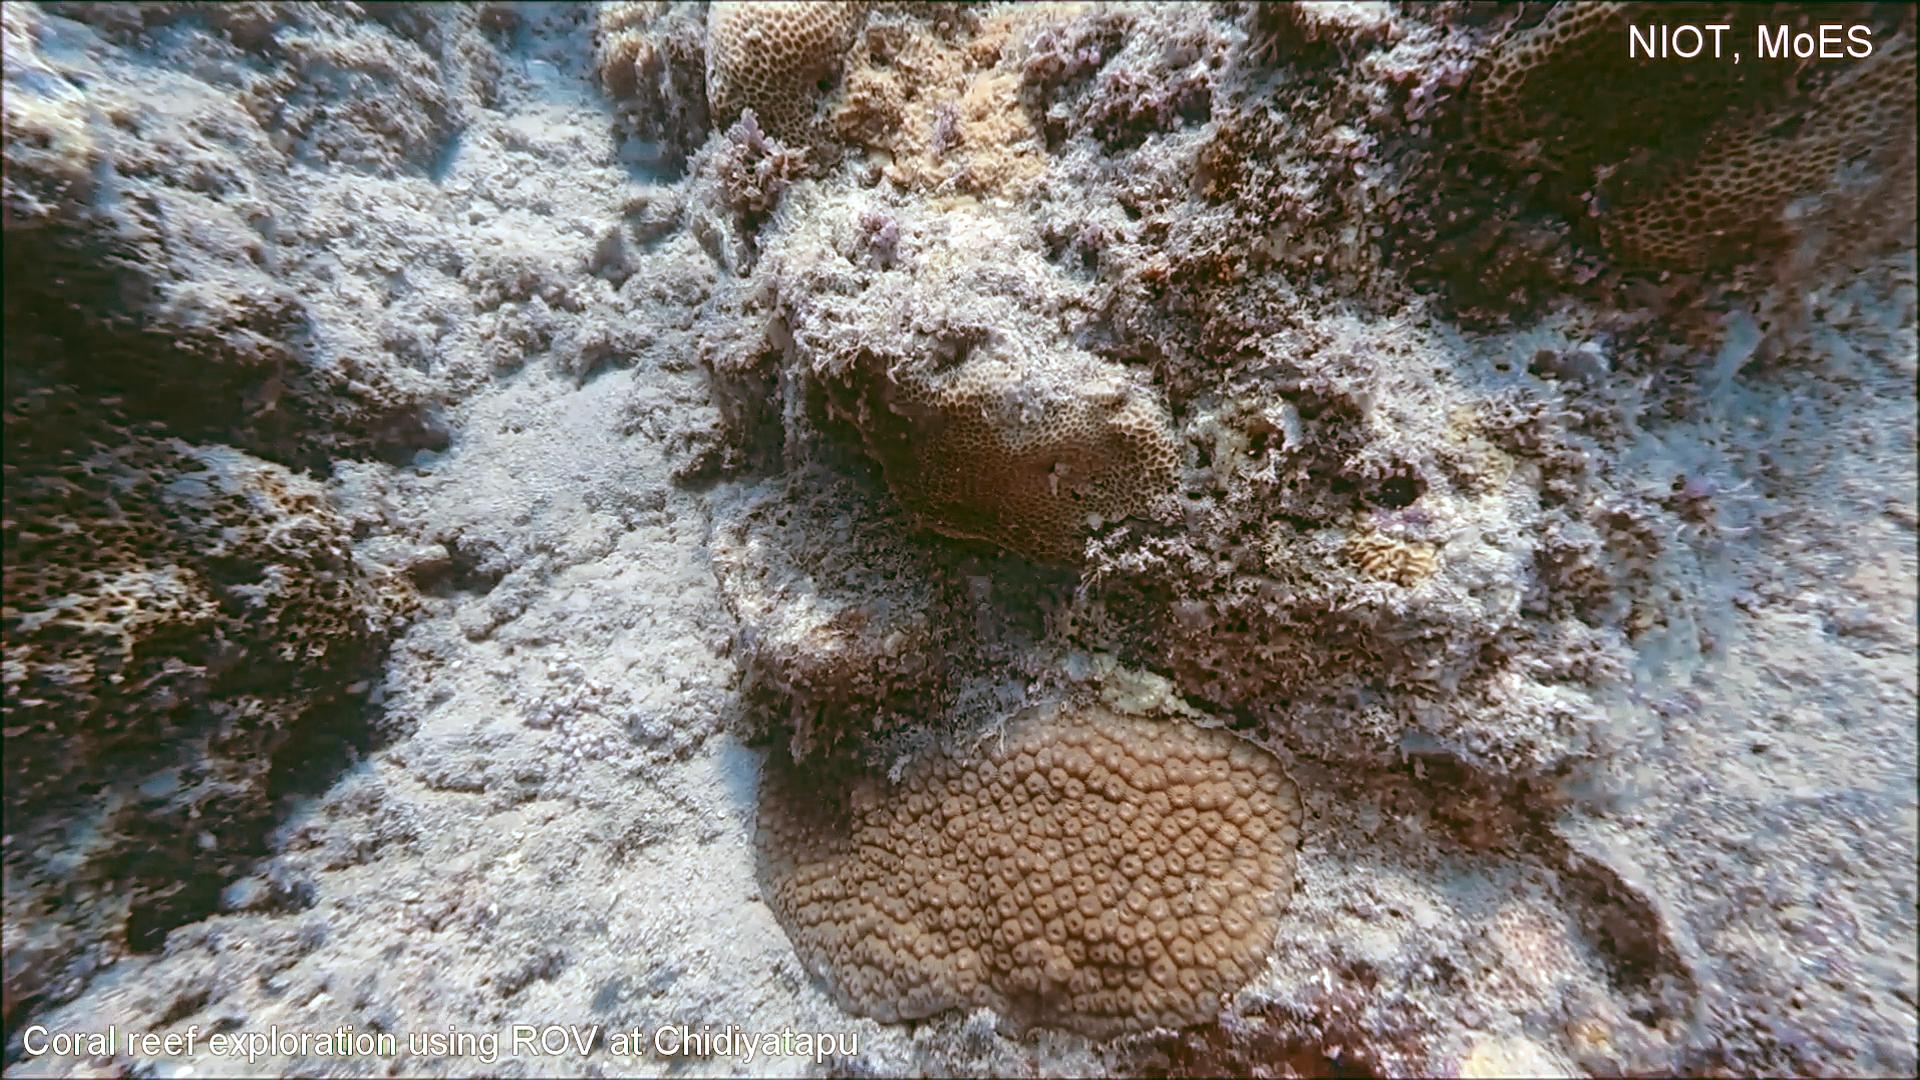Montastraea: (744, 678, 1315, 1054)
